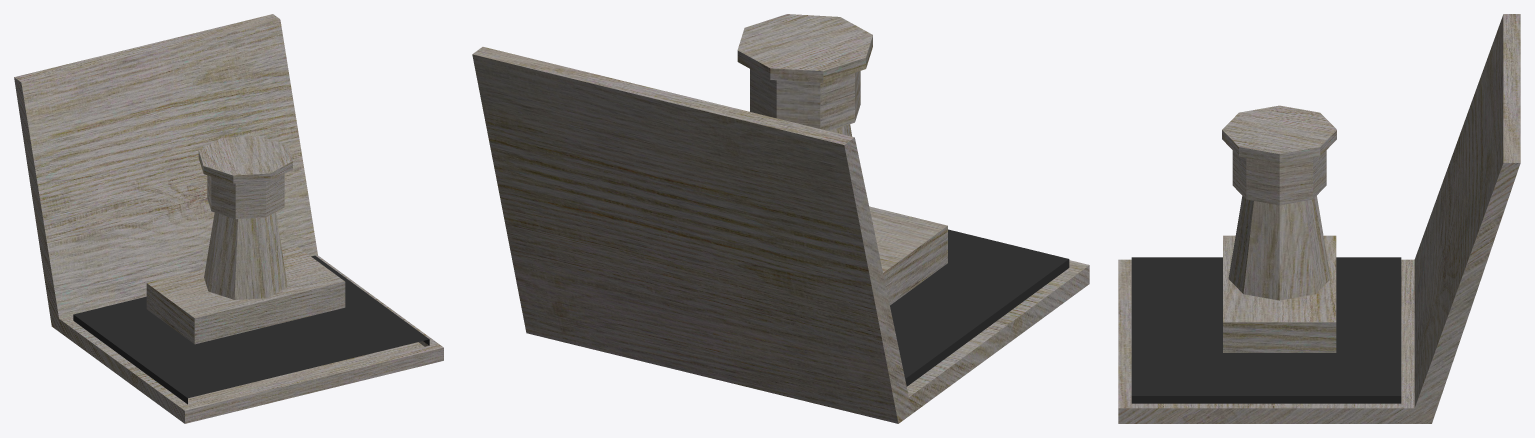
The model's file is Sellos.fbx.
3 renders of one model, left to right at view 1: azimuth 30°, elevation 25°; view 2: azimuth 150°, elevation 25°; view 3: azimuth 270°, elevation 25°, orthographic. The views are drawn at different scales.
Parts seen in each view (by area): view 1: SelloBase, Sello; view 2: SelloBase, Sello; view 3: SelloBase, Sello.
Part boxes in pixels (box(x1,y1,x2,y2)): SelloBase: box(14, 14, 443, 423); Sello: box(146, 135, 345, 344); SelloBase: box(472, 47, 1089, 423); Sello: box(737, 14, 947, 305); SelloBase: box(1118, 14, 1520, 423); Sello: box(1222, 105, 1336, 352).
Bounding box in the file's own units: 15.07 × 12.32 × 17.21.
